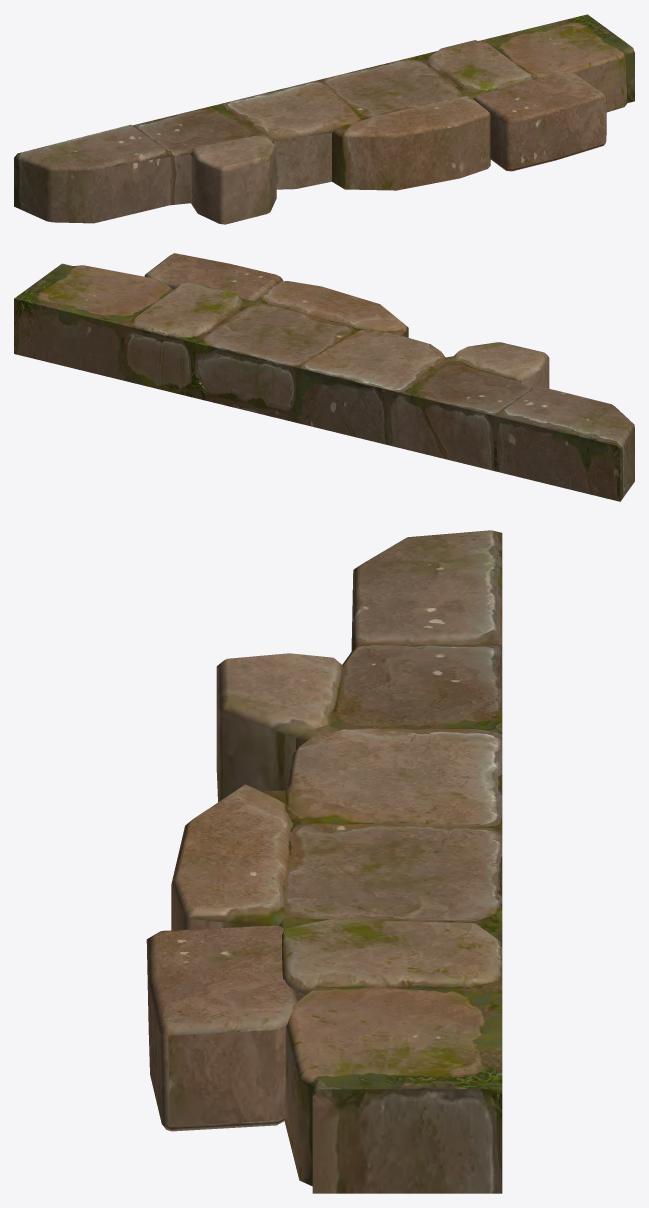
3 views of the same model, one above another, from view 1: azimuth 30°, elevation 25°; view 2: azimuth 150°, elevation 25°; view 3: azimuth 270°, elevation 25° (orthographic). The views are drawn at different scales.
Visible parts, largest first — view 1: SM_Human_Ruins_StoneFloor_Dmg_02_LOD0; view 2: SM_Human_Ruins_StoneFloor_Dmg_02_LOD0; view 3: SM_Human_Ruins_StoneFloor_Dmg_02_LOD0.
Boxes of the visible parts, x1=… form: SM_Human_Ruins_StoneFloor_Dmg_02_LOD0: x1=14, y1=14, x2=634, y2=224; SM_Human_Ruins_StoneFloor_Dmg_02_LOD0: x1=14, y1=253, x2=634, y2=501; SM_Human_Ruins_StoneFloor_Dmg_02_LOD0: x1=146, y1=530, x2=502, y2=1193.
Size of the model in its own units: 4 by 0.3823 by 1.07.
1 material, 1 textured.
